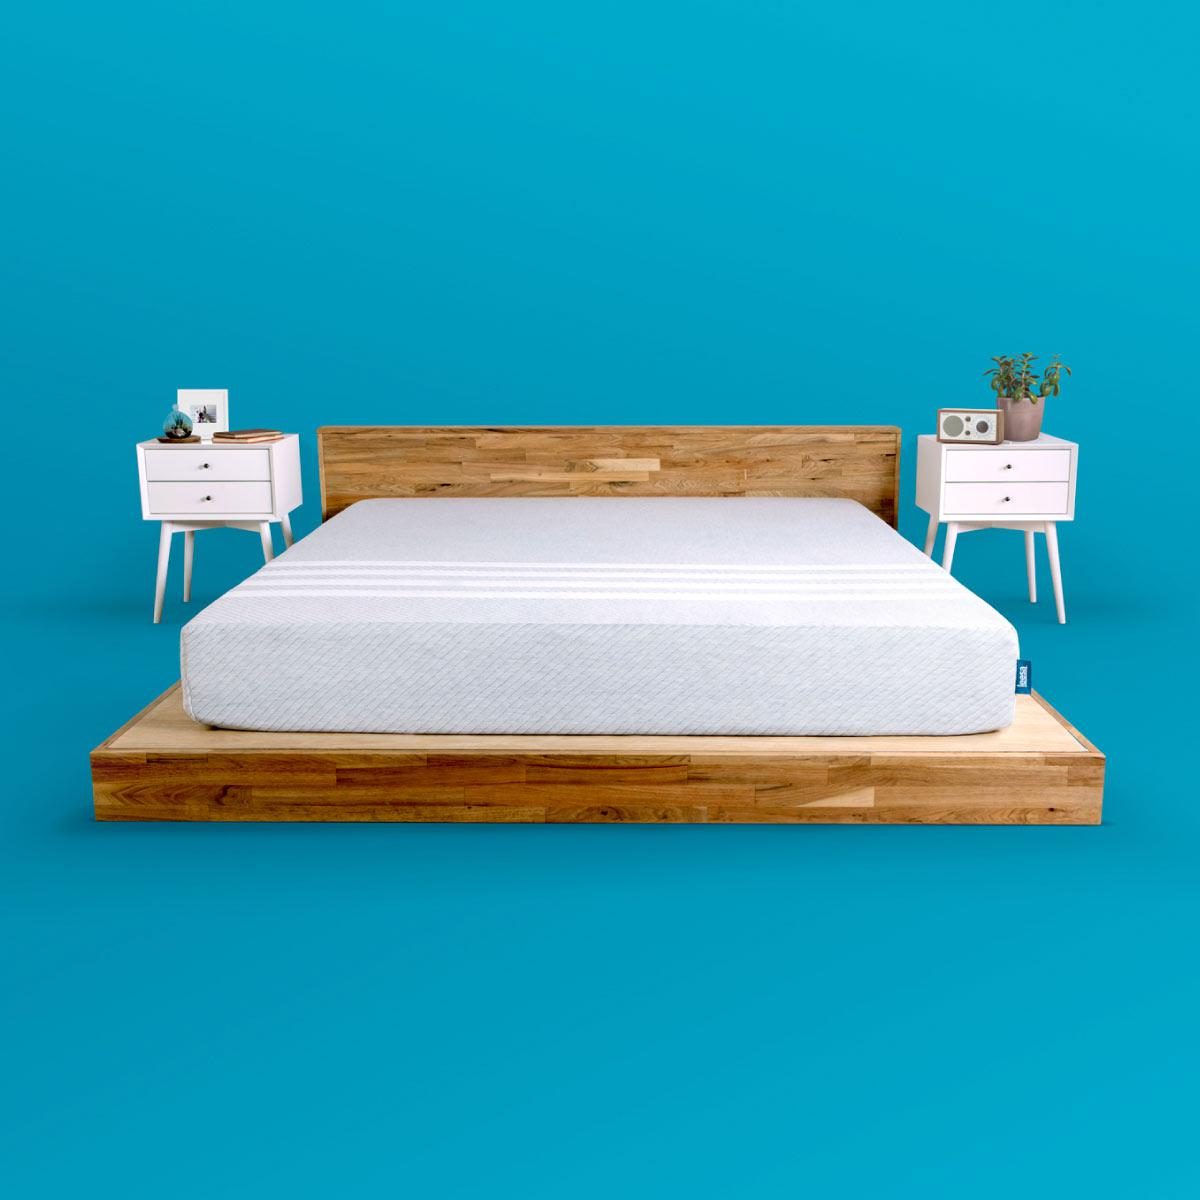bed: (78, 334, 1136, 838)
